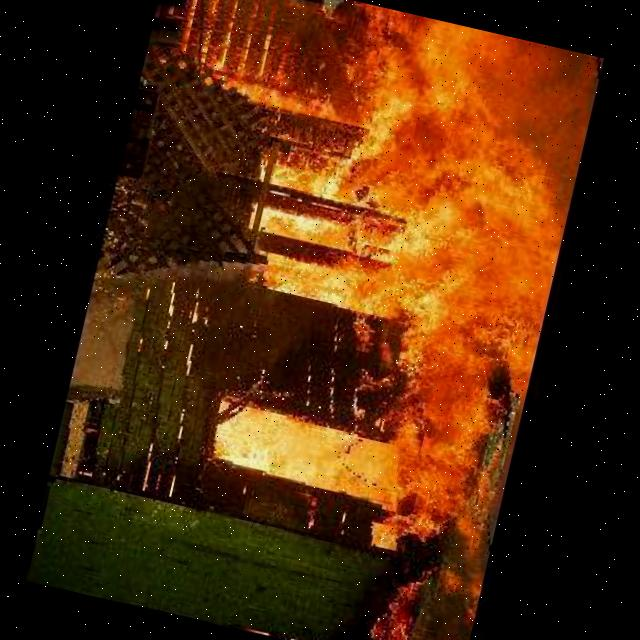fire: (338, 29, 606, 640), (246, 0, 489, 325), (196, 381, 413, 512), (168, 0, 315, 105)
